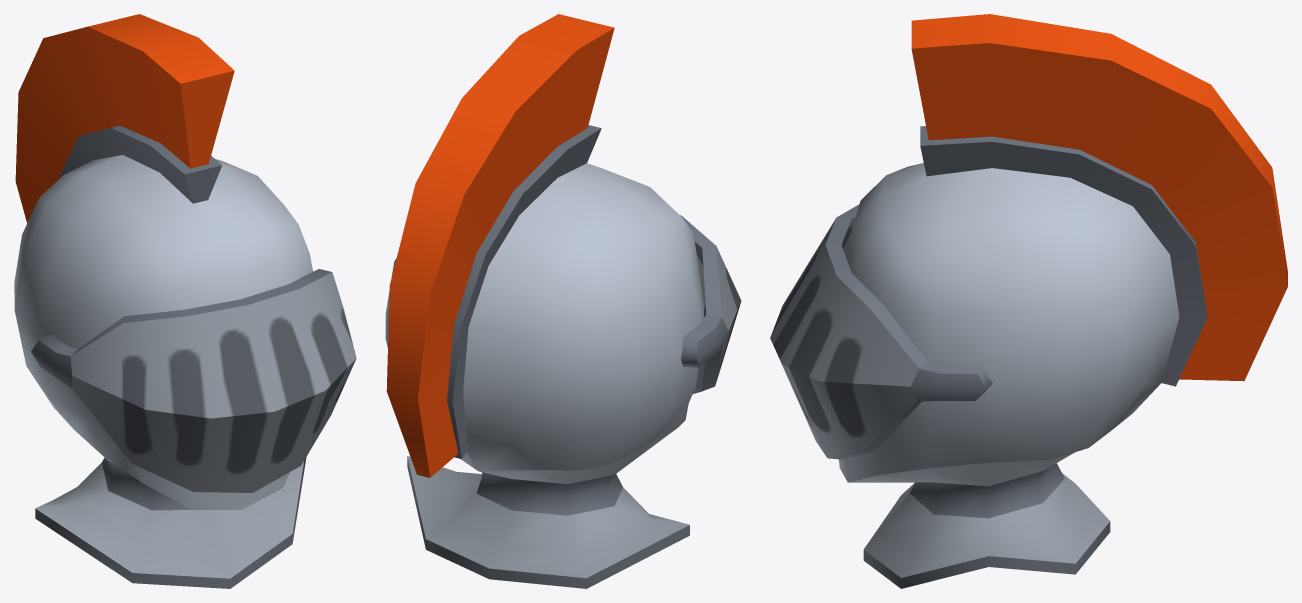
File: knightHelemt.fbx
3 views of the same model, side by side, from view 1: azimuth 30°, elevation 25°; view 2: azimuth 150°, elevation 25°; view 3: azimuth 270°, elevation 25° (orthographic). The views are drawn at different scales.
Parts seen in each view (by area): view 1: knightHelemt; view 2: knightHelemt; view 3: knightHelemt.
Boxes of the visible parts, x1=… form: knightHelemt: x1=14, y1=14, x2=356, y2=588; knightHelemt: x1=385, y1=14, x2=741, y2=588; knightHelemt: x1=770, y1=14, x2=1287, y2=588.
Bounding box in the file's own units: 0.5094 × 0.8598 × 0.7584.
